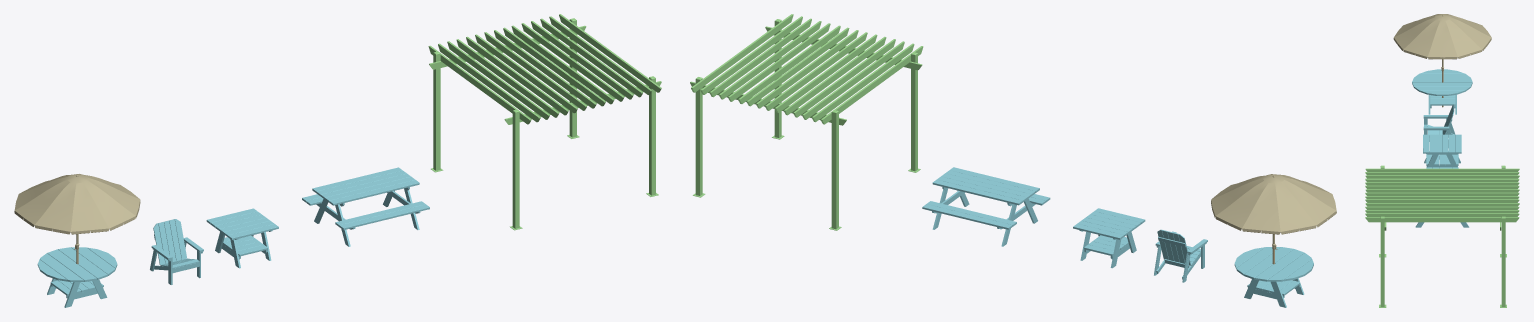
The model's file is Patio Furniture FBX.FBX.
3 views of the same model, side by side, from view 1: azimuth 30°, elevation 25°; view 2: azimuth 150°, elevation 25°; view 3: azimuth 270°, elevation 25° (orthographic). The views are drawn at different scales.
Parts seen in each view (by area): view 1: Gazebo_Metal, Umbrella, Picnic Table, Small Wood Table_Round, Small Wood Table_Square, Wood Patio Chair; view 2: Gazebo_Metal, Umbrella, Picnic Table, Small Wood Table_Round, Small Wood Table_Square, Wood Patio Chair; view 3: Gazebo_Metal, Umbrella, Small Wood Table_Round, Small Wood Table_Square, Wood Patio Chair, Picnic Table.
Part boxes in pixels (left/top/right/bottom): Gazebo_Metal: left=428, top=14, right=661, bottom=230; Umbrella: left=14, top=174, right=140, bottom=264; Picnic Table: left=302, top=167, right=429, bottom=246; Small Wood Table_Round: left=37, top=247, right=117, bottom=307; Small Wood Table_Square: left=206, top=208, right=278, bottom=268; Wood Patio Chair: left=150, top=219, right=203, bottom=284; Gazebo_Metal: left=690, top=14, right=923, bottom=230; Umbrella: left=1211, top=174, right=1336, bottom=264; Picnic Table: left=922, top=167, right=1050, bottom=246; Small Wood Table_Round: left=1234, top=247, right=1313, bottom=307; Small Wood Table_Square: left=1073, top=208, right=1145, bottom=268; Wood Patio Chair: left=1154, top=229, right=1207, bottom=282; Gazebo_Metal: left=1365, top=165, right=1519, bottom=307; Umbrella: left=1393, top=14, right=1491, bottom=107; Small Wood Table_Round: left=1412, top=69, right=1472, bottom=114; Small Wood Table_Square: left=1423, top=134, right=1461, bottom=168; Wood Patio Chair: left=1423, top=104, right=1455, bottom=138; Picnic Table: left=1415, top=167, right=1469, bottom=227.
Size of the model in its own units: 500 by 96.24 by 146.
